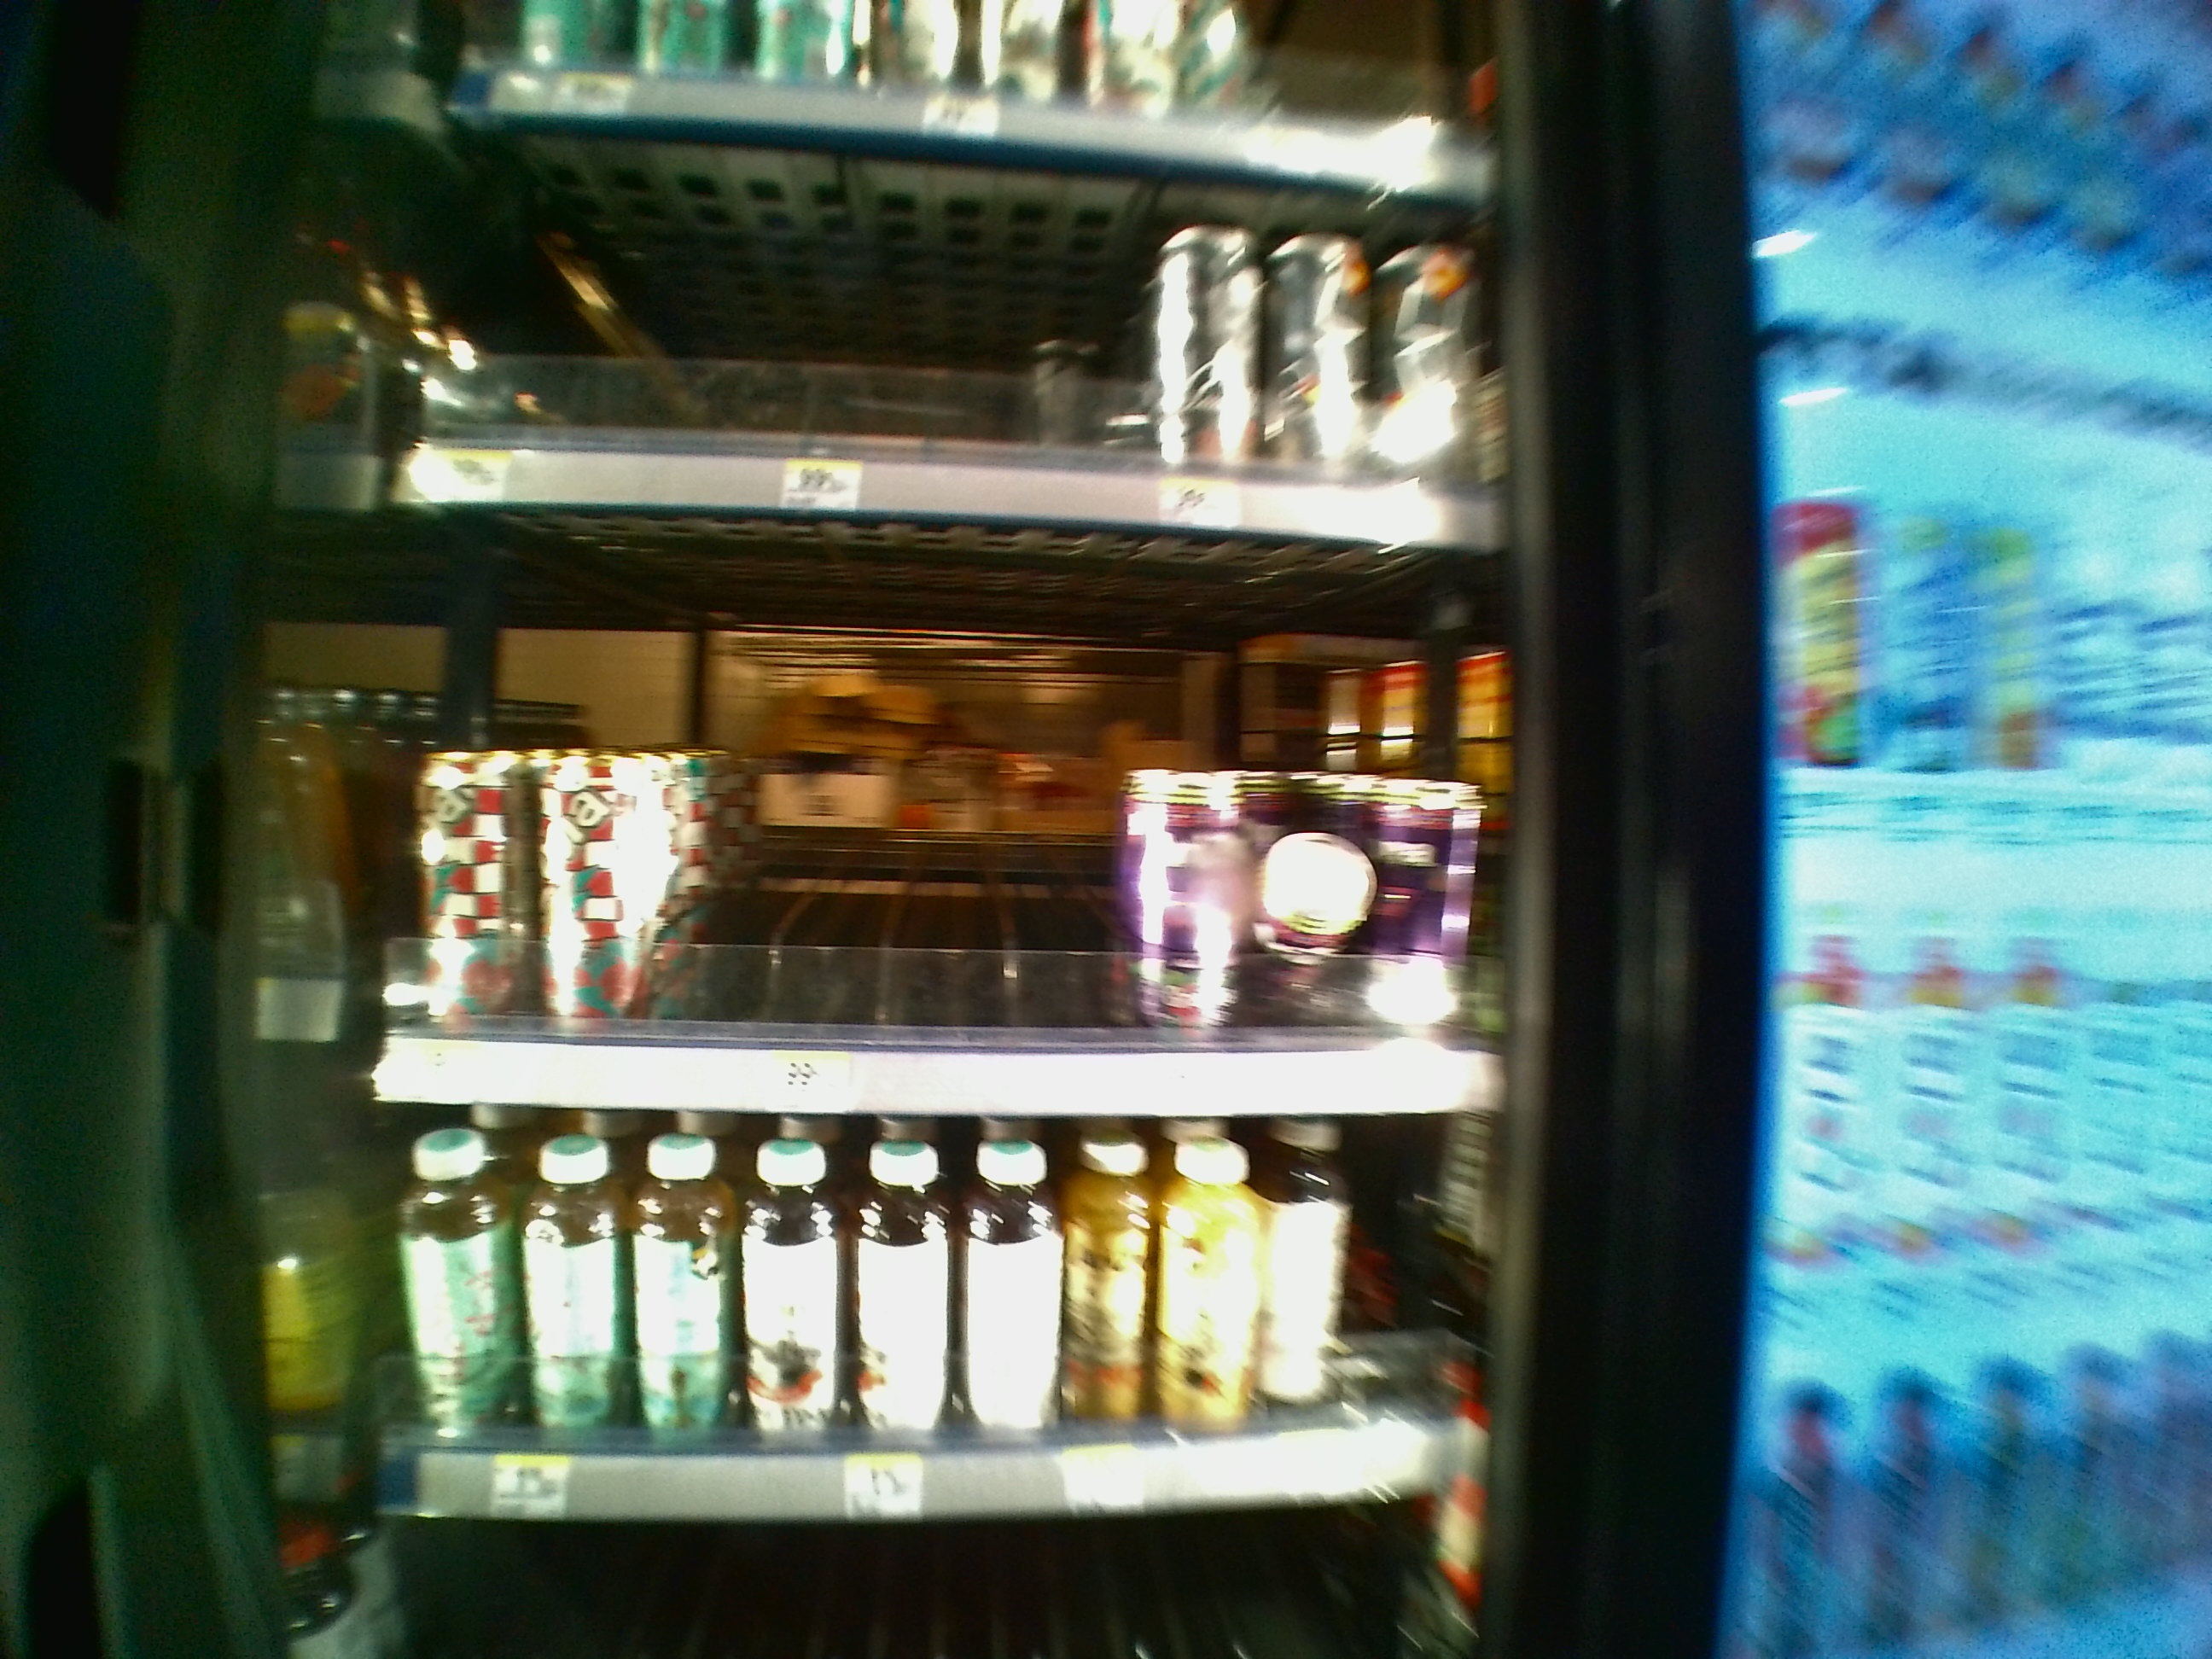shelf: (366, 507, 1503, 1105), (364, 1114, 1505, 1516)
